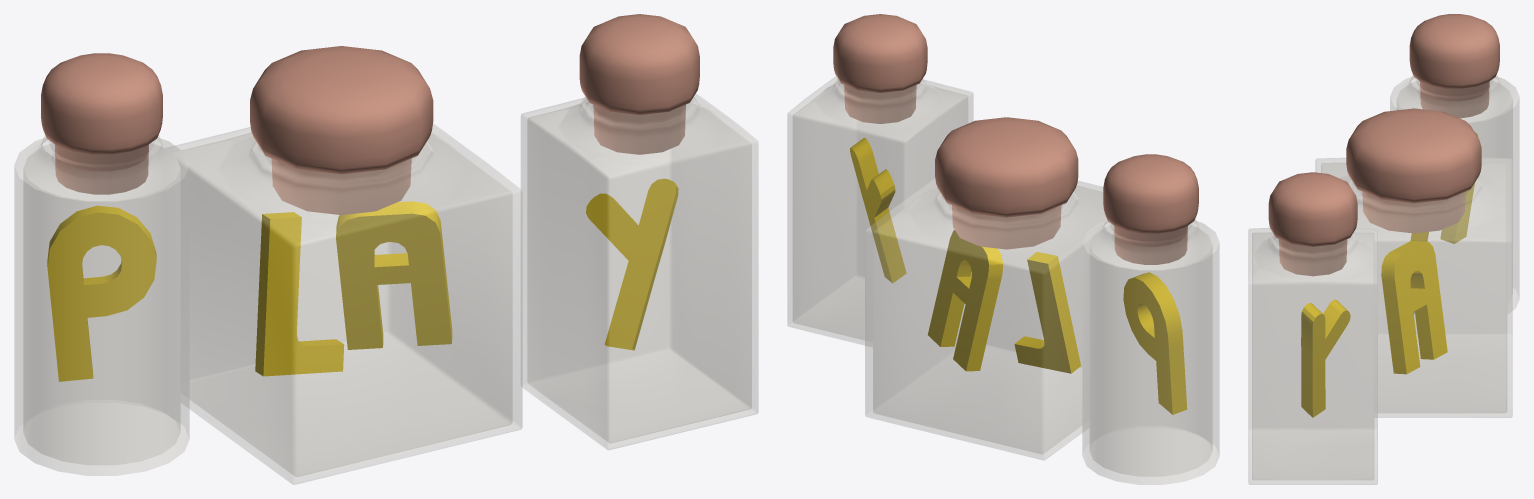
File: botãoPlay.fbx
3 views of the same model, side by side, from view 1: azimuth 30°, elevation 25°; view 2: azimuth 150°, elevation 25°; view 3: azimuth 270°, elevation 25° (orthographic). The views are drawn at different scales.
Parts seen in each view (by area): view 1: Frasco Quadrado, Frasco Quadrado.001, Frasco Cilindro, Rolha, Rolha Cilindro, Rolha.001, A, P, L, Y; view 2: Frasco Quadrado, Frasco Cilindro, Frasco Quadrado.001, Rolha, Rolha Cilindro, Rolha.001, A, P, L, Y; view 3: Frasco Quadrado, Frasco Quadrado.001, Rolha, Frasco Cilindro, Rolha Cilindro, Rolha.001, A, Y, P.
Part boxes in pixels (<box>): Frasco Quadrado: <box>165,123,522,484</box>; Frasco Quadrado.001: <box>521,93,758,449</box>; Frasco Cilindro: <box>14,135,189,475</box>; Rolha: <box>250,46,433,215</box>; Rolha Cilindro: <box>41,53,162,194</box>; Rolha.001: <box>579,14,699,154</box>; A: <box>336,201,452,349</box>; P: <box>47,205,156,381</box>; L: <box>255,212,344,376</box>; Y: <box>586,178,678,350</box>; Frasco Quadrado: <box>865,178,1111,460</box>; Frasco Cilindro: <box>1082,218,1219,484</box>; Frasco Quadrado.001: <box>787,76,973,346</box>; Rolha: <box>935,117,1078,249</box>; Rolha Cilindro: <box>1103,154,1198,264</box>; Rolha.001: <box>833,14,927,123</box>; A: <box>928,230,1003,371</box>; P: <box>1123,272,1187,414</box>; L: <box>1014,252,1080,373</box>; Y: <box>850,138,906,282</box>; Frasco Quadrado: <box>1315,158,1512,417</box>; Frasco Quadrado.001: <box>1248,228,1377,484</box>; Rolha: <box>1346,108,1481,233</box>; Frasco Cilindro: <box>1390,74,1519,313</box>; Rolha Cilindro: <box>1409,14,1499,118</box>; Rolha.001: <box>1268,172,1357,276</box>; A: <box>1381,241,1447,374</box>; Y: <box>1301,299,1350,417</box>; P: <box>1440,132,1477,243</box>.
Bounding box in the file's own units: 780 × 474 × 419.
